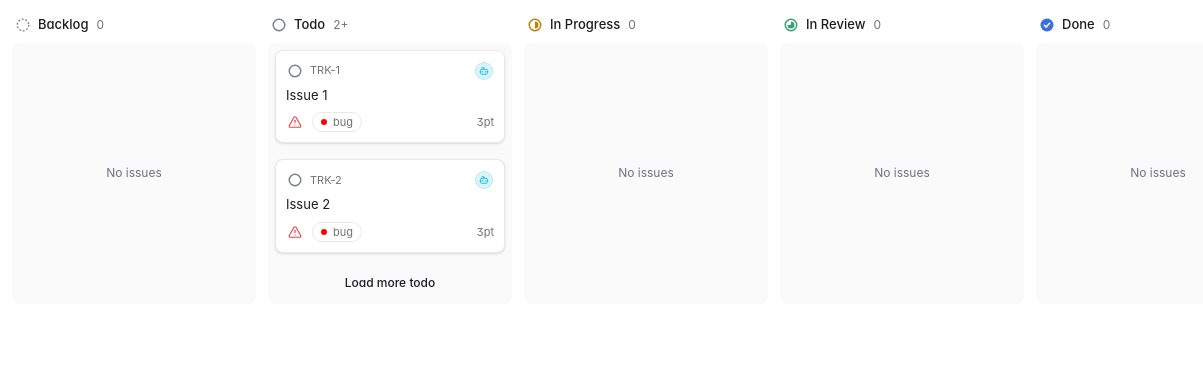
Test: Board › loads more of one column through the cursor, ignoring duplicates
What coordinates should you click on to do the following:
click the button "Load more todo"
I would click on:
 (390, 283)
Its box is [275,269,505,297].
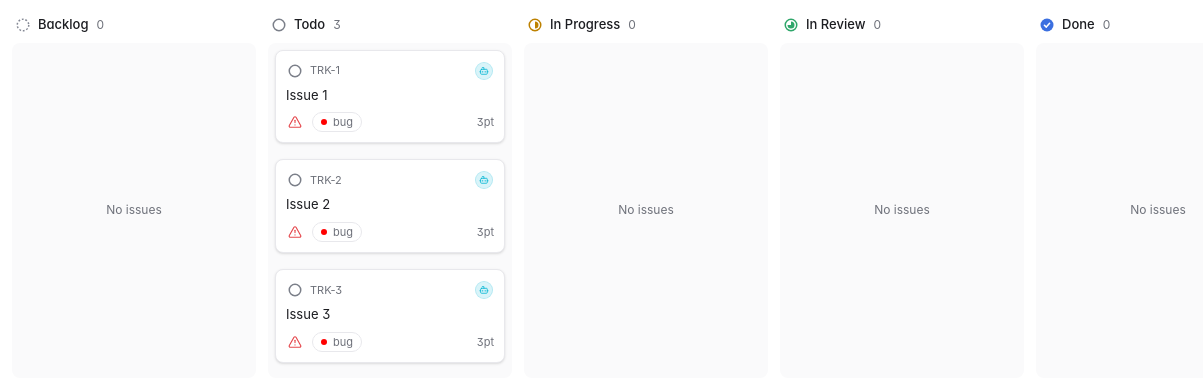
Expected: the number of links "Issue 2" is 1, [286,196,330,212]
Expected: the link "Issue 3" is shown, [286,306,330,322]
Expected: the text with test id "count-todo" reads "3", [333,17,341,32]
